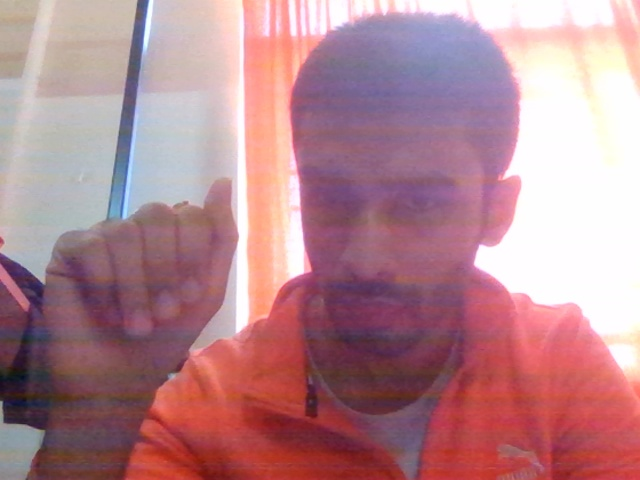A: (30, 162, 256, 447)
